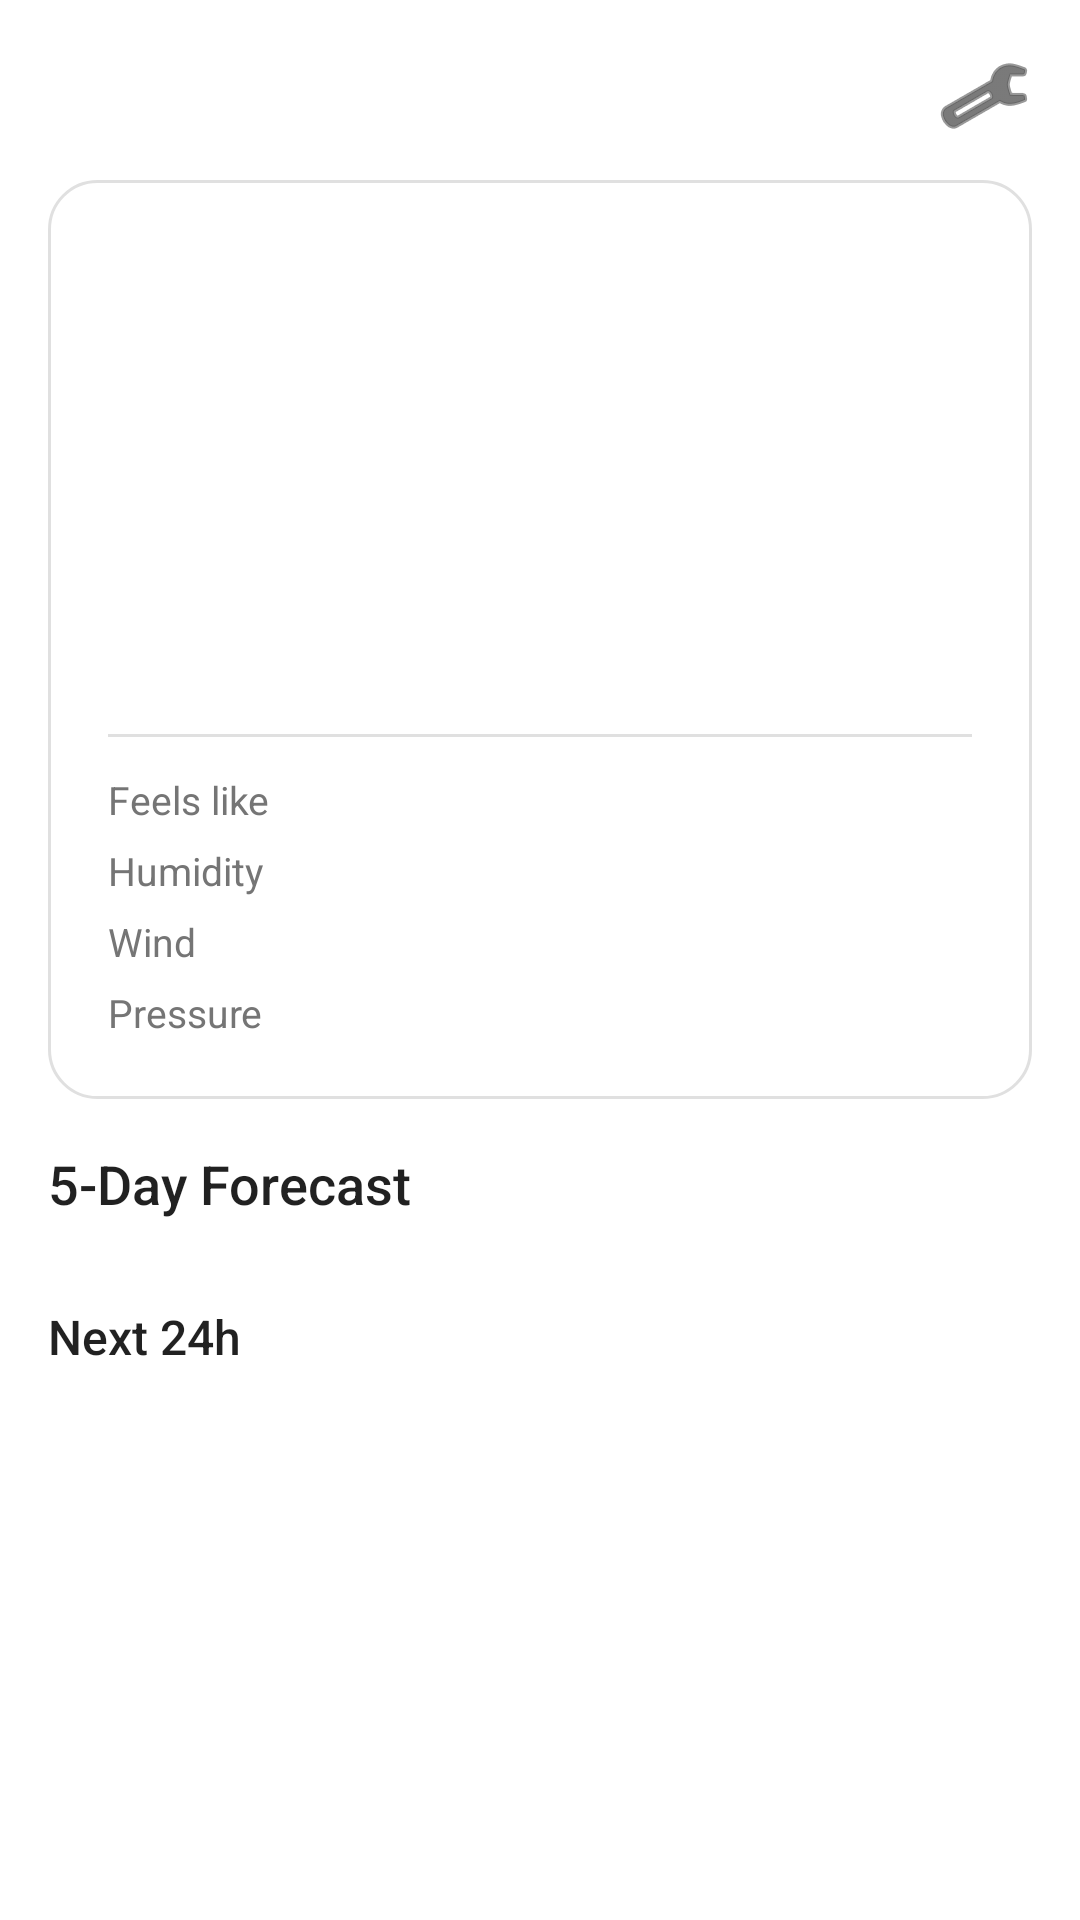

Locate icon controls on the screen. Image size 1080px x 1920px, boxes as (x1, y1, x2, y2).
Settings: (941, 63, 1027, 129)
